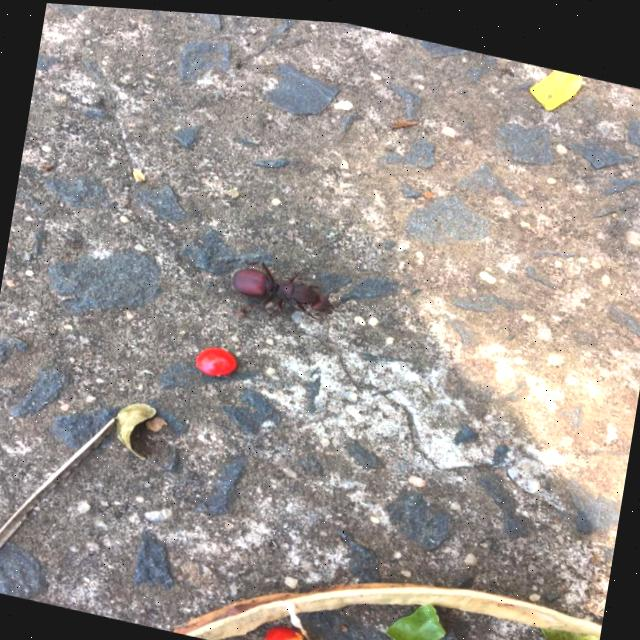Alive-Female-Dealate: (228, 250, 342, 324)
